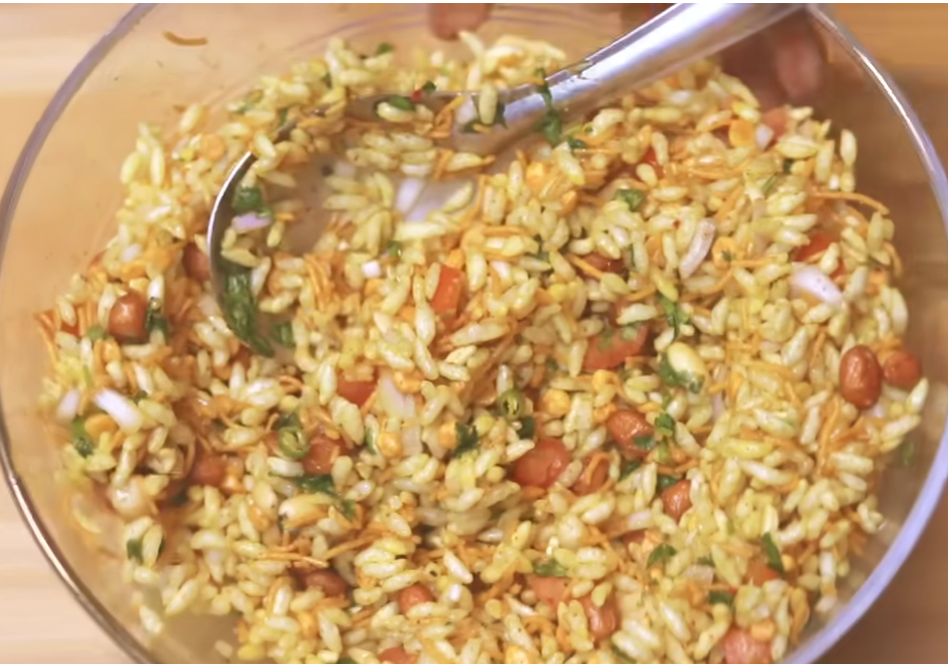chatpate: (80, 100, 813, 639)
